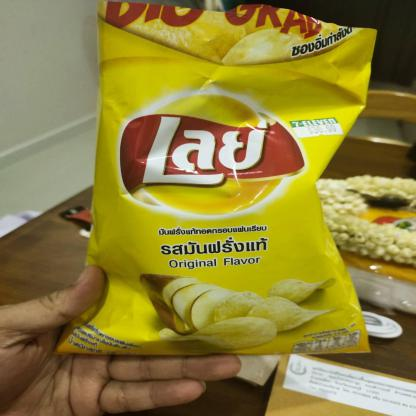potatochip: (44, 0, 386, 363)
